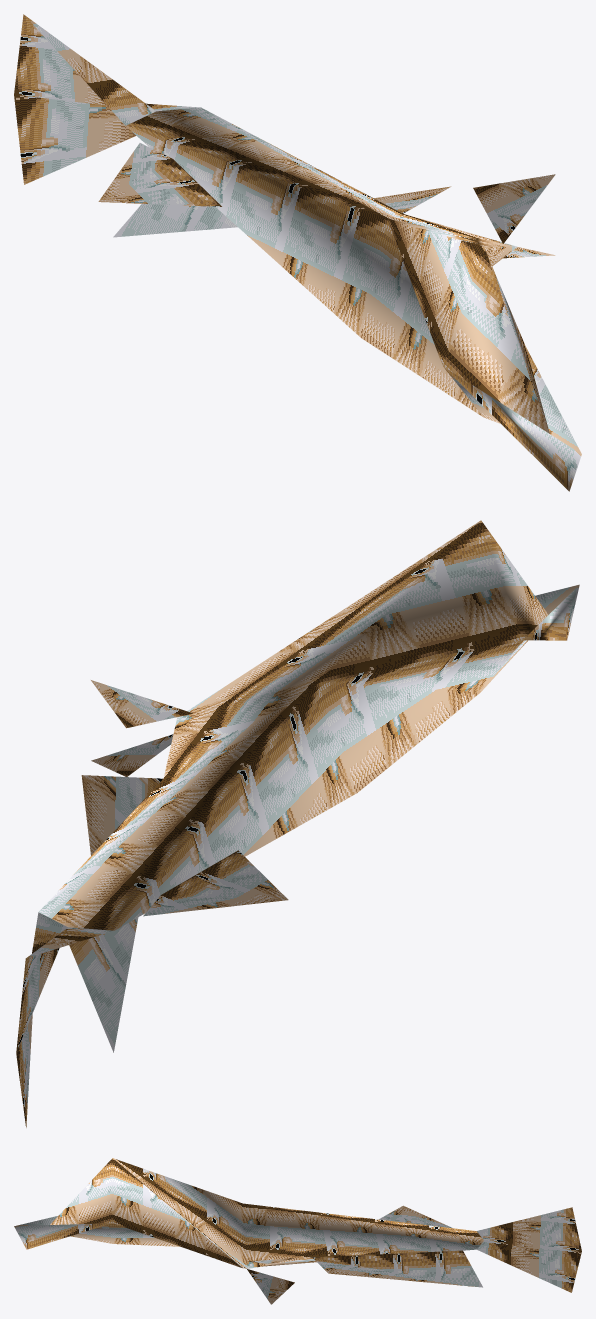
Rendered from 4811fish21_r.gltf.
The picture shows the model from 3 angles, top to bottom: view 1: azimuth 30°, elevation 25°; view 2: azimuth 150°, elevation 25°; view 3: azimuth 270°, elevation 25°; orthographic projection. The views are drawn at different scales.
Visible parts, largest first — view 1: 4811fish21_r; view 2: 4811fish21_r; view 3: 4811fish21_r.
Boxes of the visible parts, x1,y1,x2,y2 form: 4811fish21_r: (14, 14, 581, 491); 4811fish21_r: (16, 520, 579, 1127); 4811fish21_r: (14, 1158, 581, 1304).
Size of the model in its own units: 0.3352 by 0.2645 by 0.9997.
1 material, 1 textured.
